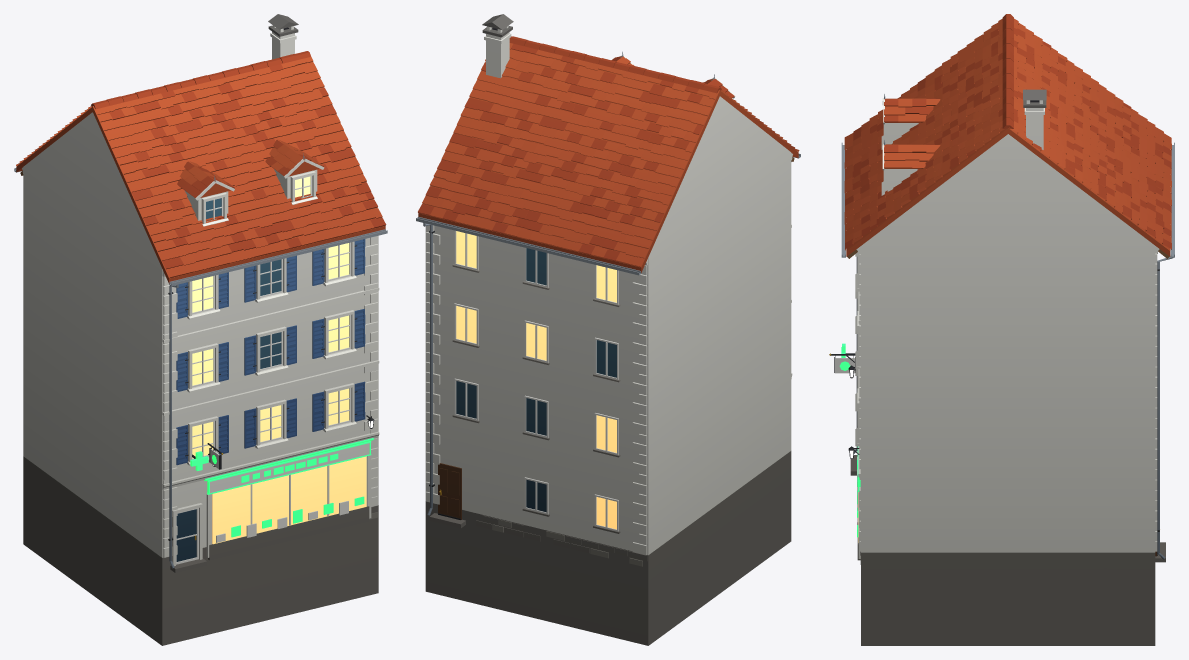
File: TownHouse_E.fbx
3 views of the same model, side by side, from view 1: azimuth 30°, elevation 25°; view 2: azimuth 150°, elevation 25°; view 3: azimuth 270°, elevation 25° (orthographic). The views are drawn at different scales.
Visible parts, largest first — view 1: TownHouse_E_LOD0; view 2: TownHouse_E_LOD0; view 3: TownHouse_E_LOD0.
Part boxes in pixels (box(x1,y1,x2,y2)): TownHouse_E_LOD0: box(14, 14, 387, 645); TownHouse_E_LOD0: box(416, 14, 800, 645); TownHouse_E_LOD0: box(829, 14, 1174, 645).
Size of what is drawn, in the model's own units: 9 by 20.6 by 11.75.
Materials: 1 (1 with a texture image).
